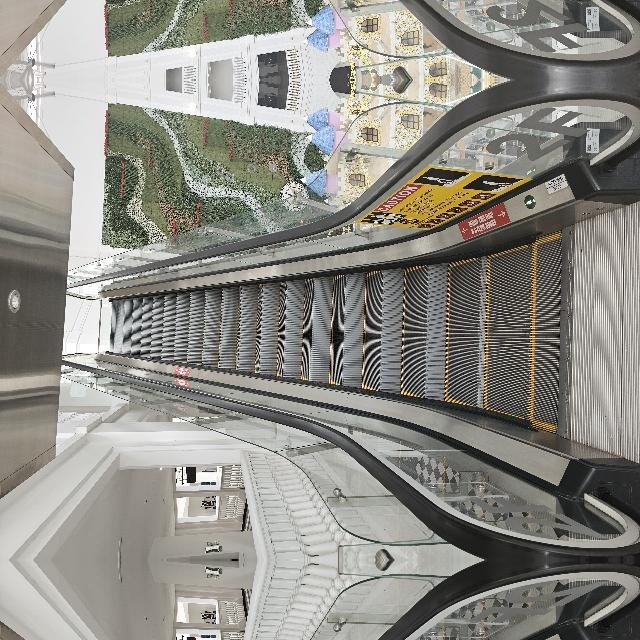stair: (95, 180, 358, 640), (95, 402, 358, 640)
